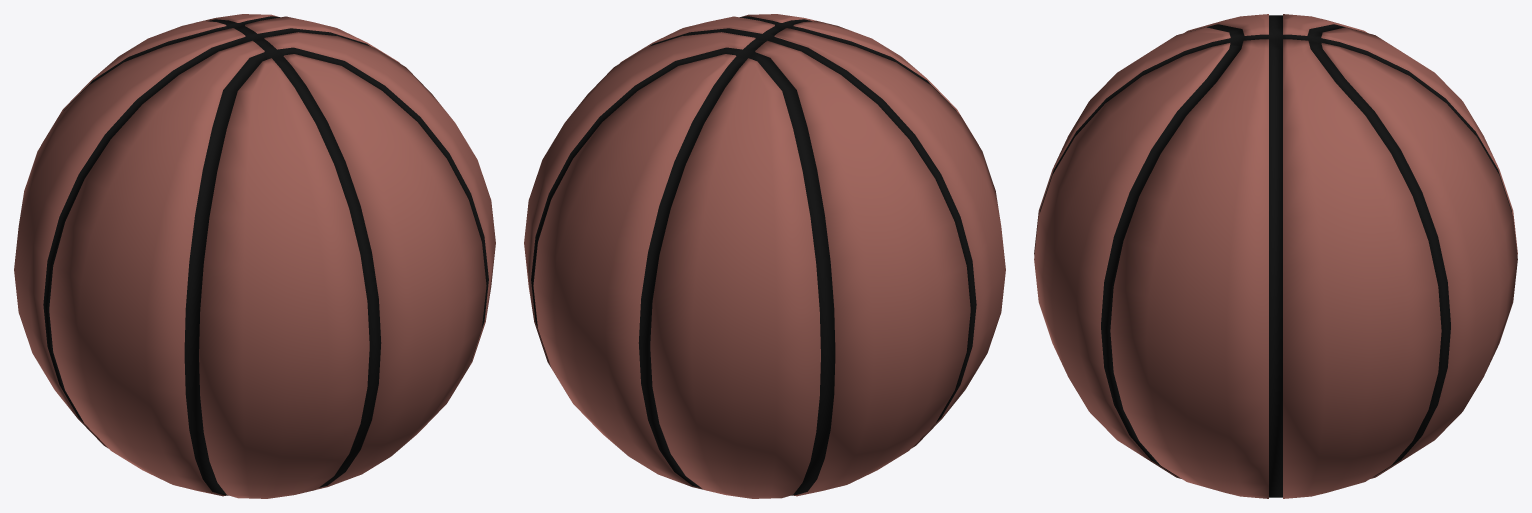
Rendered from basketball.fbx.
3 renders of one model, left to right at view 1: azimuth 30°, elevation 25°; view 2: azimuth 150°, elevation 25°; view 3: azimuth 270°, elevation 25°, orthographic.
Parts seen in each view (by area): view 1: BasketballBall; view 2: BasketballBall; view 3: BasketballBall.
Part boxes in pixels (x1=…): BasketballBall: x1=14, y1=14, x2=495, y2=498; BasketballBall: x1=524, y1=14, x2=1005, y2=498; BasketballBall: x1=1034, y1=14, x2=1517, y2=498.
Size of the model in its own units: 74.99 by 75.27 by 74.99.
